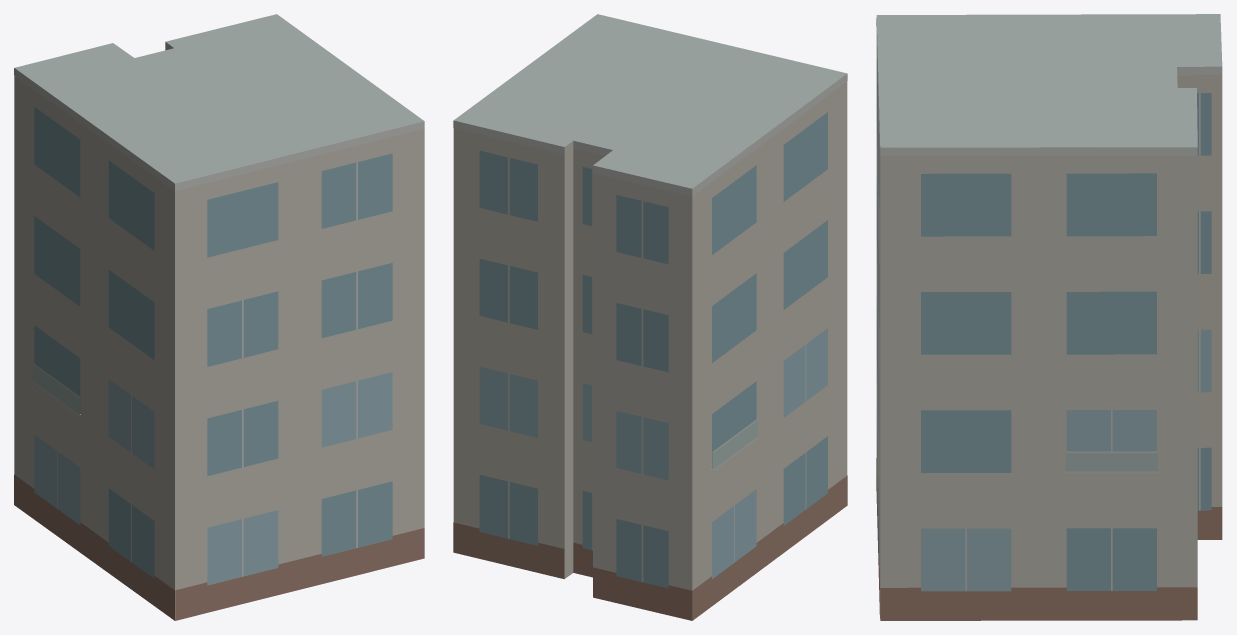
Rendered from survey-upis-33006767.glb.
The picture shows the model from 3 angles, left to right: view 1: azimuth 30°, elevation 25°; view 2: azimuth 150°, elevation 25°; view 3: azimuth 270°, elevation 25°; orthographic projection. The views are drawn at different scales.
Visible parts, largest first — view 1: survey-upis-33006767.tmp; view 2: survey-upis-33006767.tmp; view 3: survey-upis-33006767.tmp.
Boxes of the visible parts, x1,y1,x2,y2 form: survey-upis-33006767.tmp: (14, 14, 424, 620); survey-upis-33006767.tmp: (453, 14, 847, 620); survey-upis-33006767.tmp: (876, 14, 1222, 620).
Bounding box in the file's own units: 8.47 × 13.9 × 9.22.
